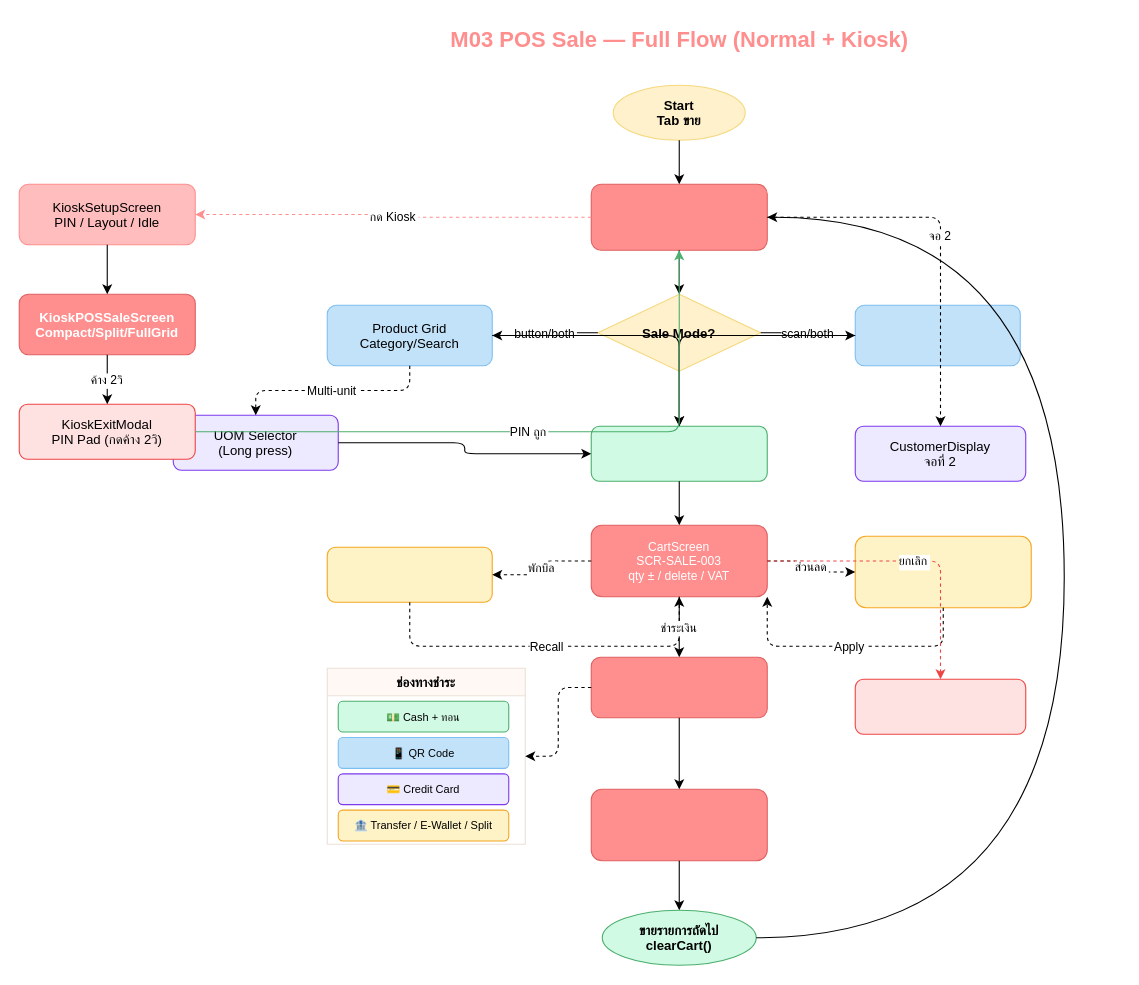
Some shapes in this 1139 by 985 pixel diagram are drawn without their labels. The shapes that lost their labels are listed below. From the top down, each one's centre as x and y in pixels, then its label:
At (678,216): "POSSaleScreen SCR-SALE-001".
At (937,335): "Scanner SCR-SALE-002".
At (678,453): "addItem()".
At (409,574): "HoldBillScreen SCR-SALE-005".
At (942,571): "DiscountScreen SCR-SALE-004 % / บาท / Approval".
At (678,687): "PaymentScreen SCR-SALE-006".
At (940,706): "CancelBillScreen เหตุผล + Approval".
At (678,824): "ReceiptScreen SCR-SALE-007 Print/Share PDF".
